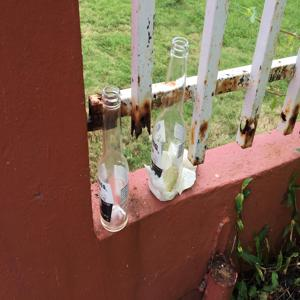glass: (87, 78, 135, 238), (154, 31, 187, 202)
